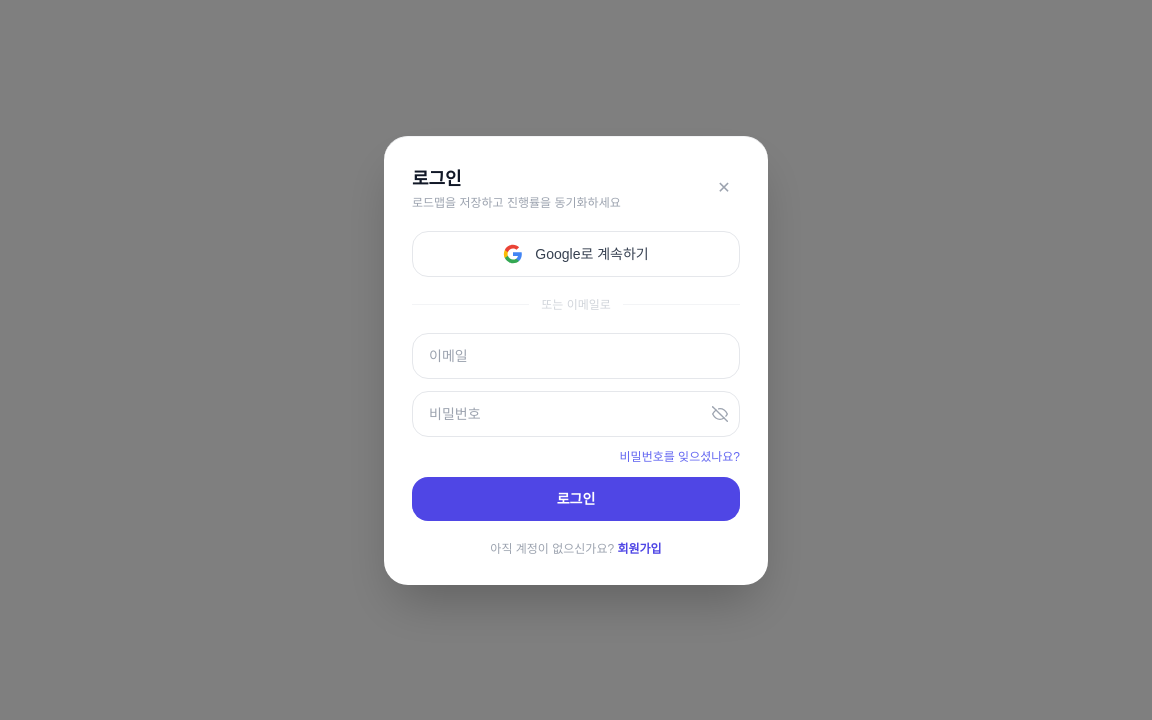
it: AuthModal password policy › shows updated password placeholder in signup mode
The width and height of the screenshot is (1152, 720).
# Switch to signup
Click the button "회원가입": [640, 548] box [618, 540, 662, 556]
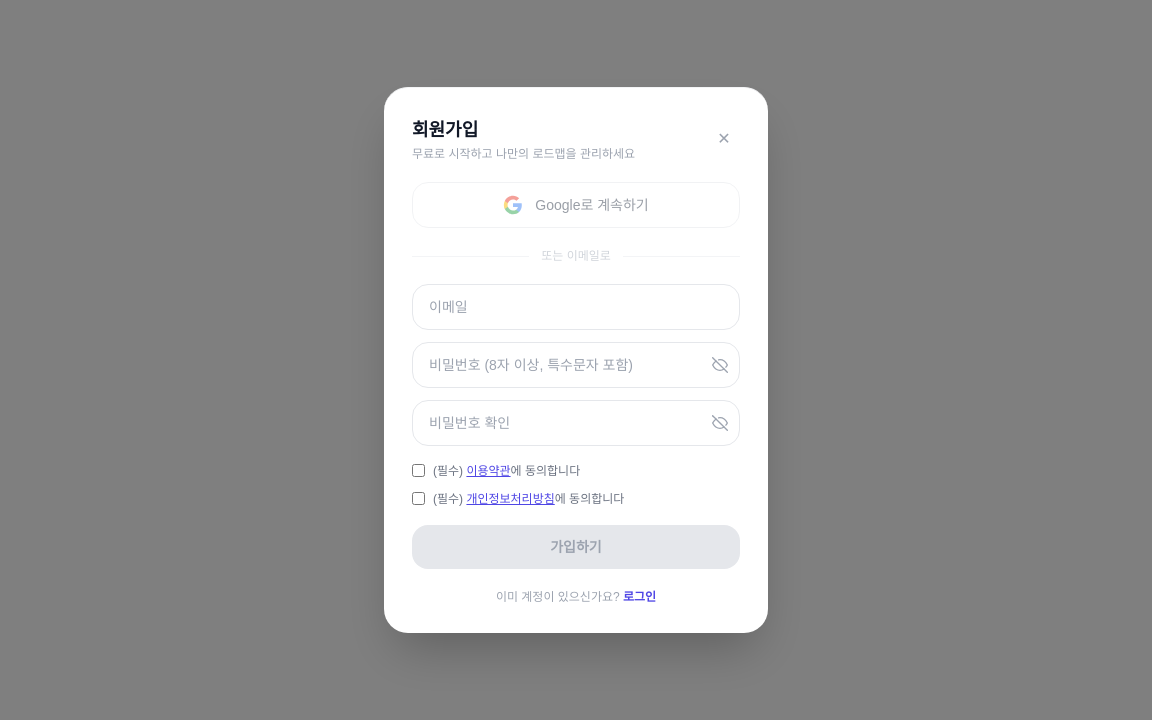
expect the password field with placeholder "비밀번호 (8자 이상, 특수문자 포함)" is shown: met, box [412, 342, 740, 388]
